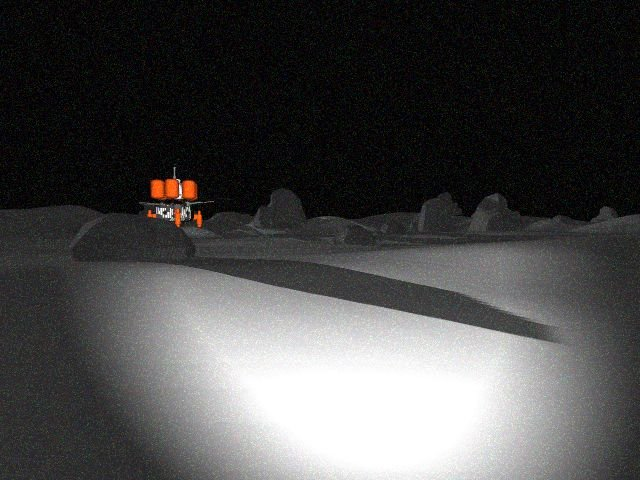homebase: (131, 163, 218, 240)
